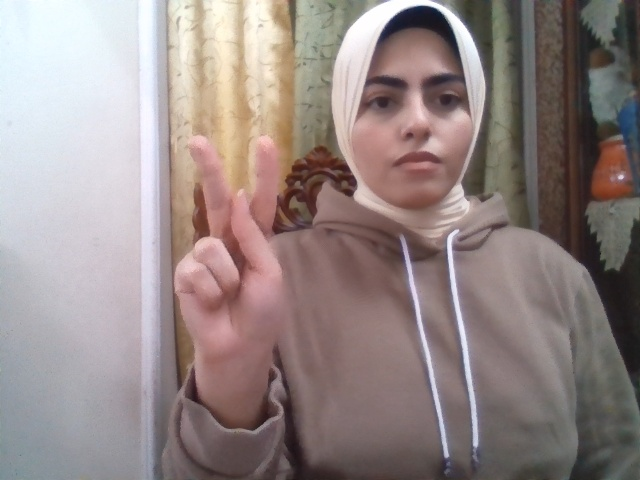K: (174, 135, 284, 372)
